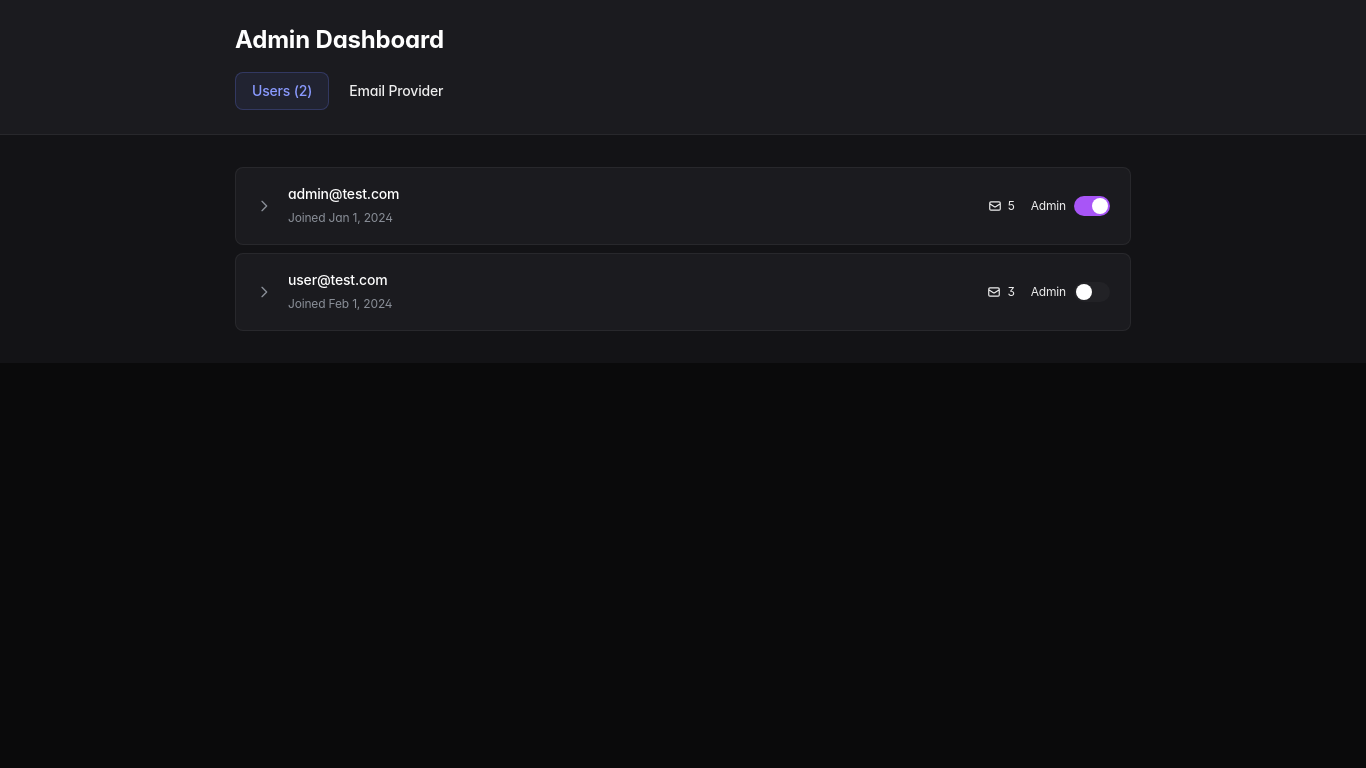
Test: Admin › shows N/A for missing IP address in expanded panel
Click the second user (has no IP)
Click the text "user@test.com" at [338, 280], box [288, 271, 388, 288]
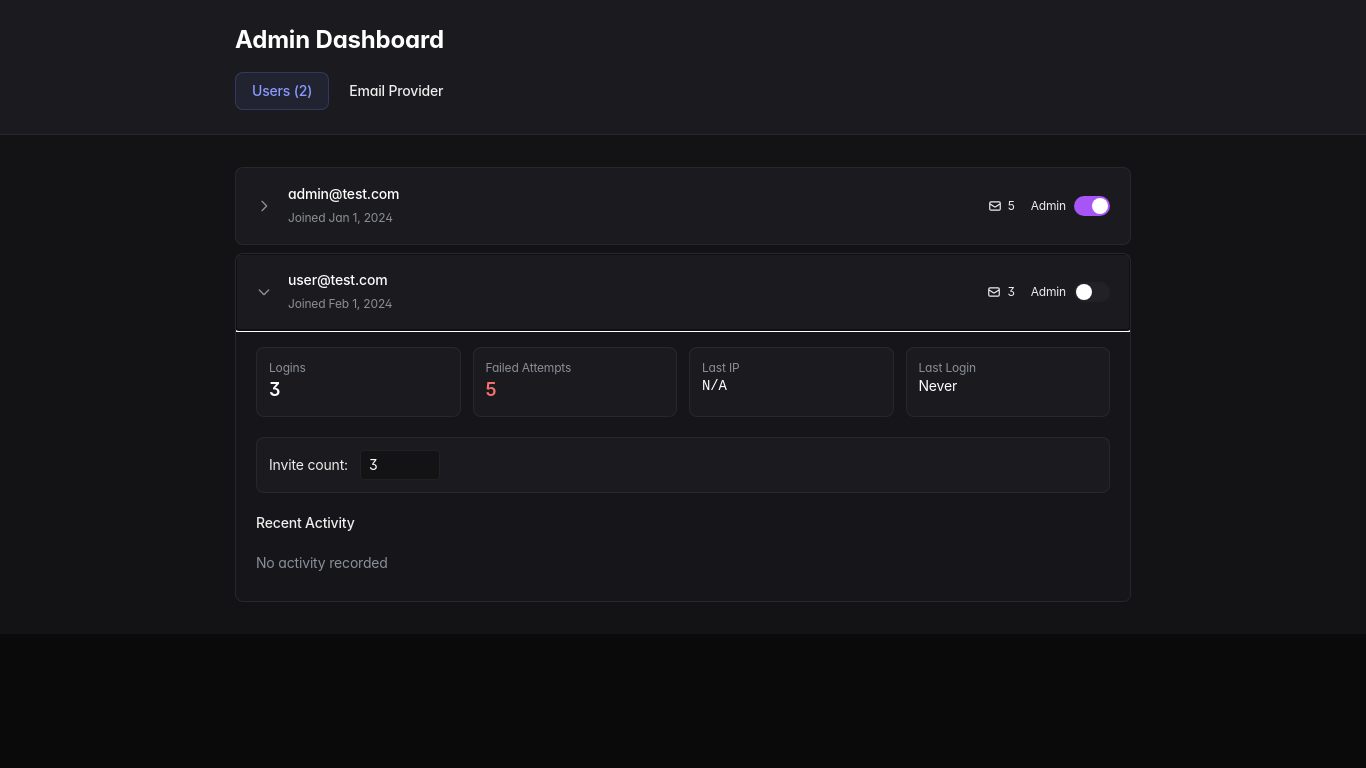
Now the text "N/A" is shown, box [702, 378, 727, 394]
Now the text "Never" is shown, box [918, 377, 957, 394]
